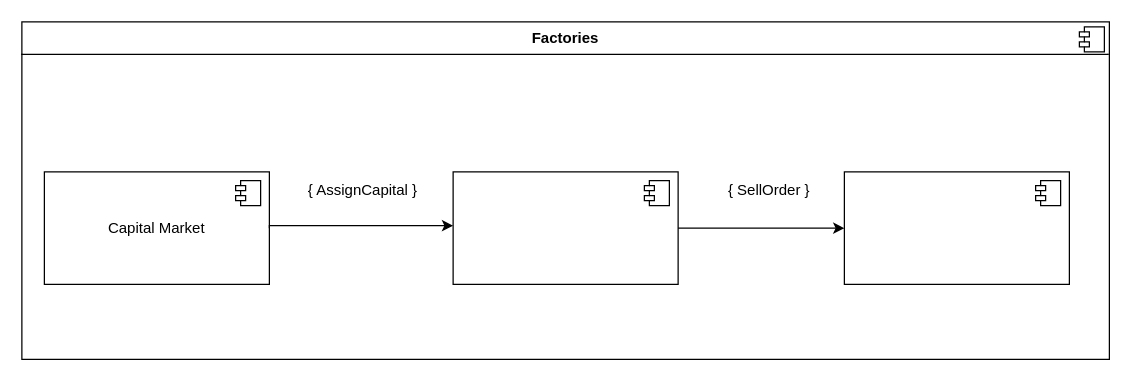
The diagram is 1131 pixels wide and 381 high, and some of its shapes have lost their labels. Each missing label, with the box of its shape:
Factory: (452, 171, 678, 284)
Goods Market: (843, 171, 1069, 284)
